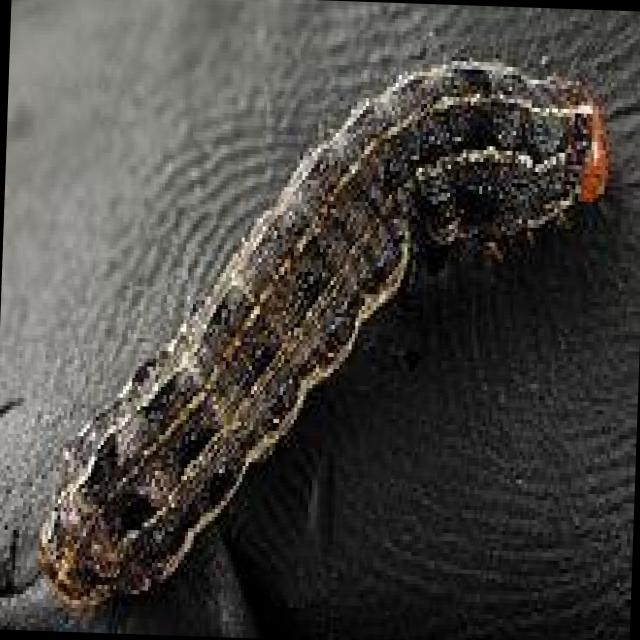armyworm: (23, 23, 622, 639)
